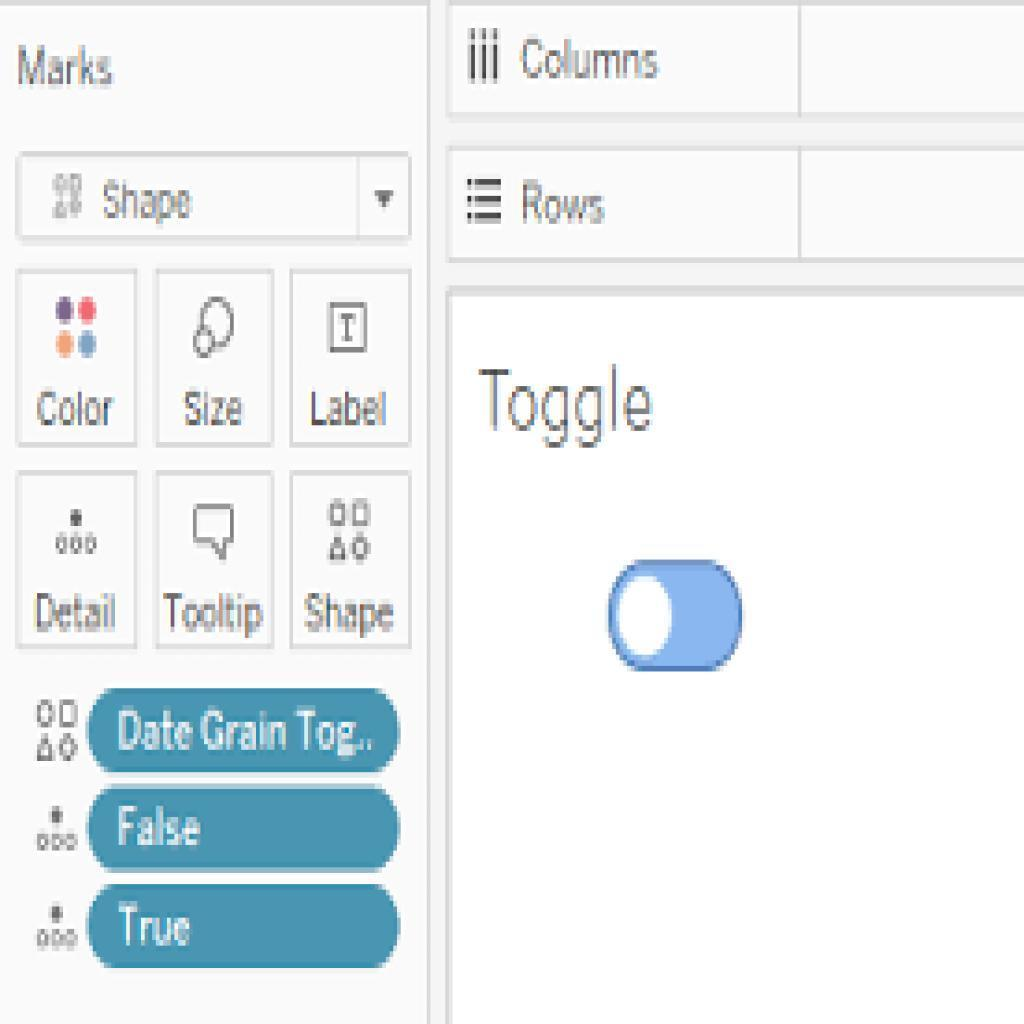button: (87, 787, 403, 874), (88, 688, 401, 773), (85, 887, 403, 970)
dropdown: (17, 156, 408, 242)
switch: (611, 560, 743, 675)
